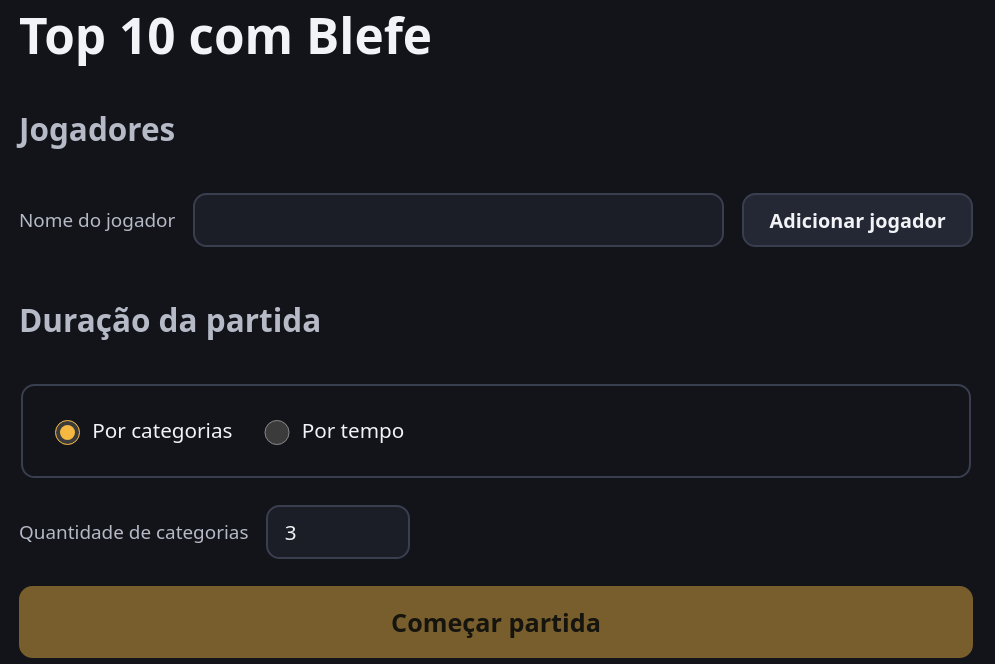
Test case: TelaSetup › remove um jogador da lista
In the field labelled "Nome do jogador": (459, 220) x1=193 y1=193 x2=724 y2=247, type "Ana"
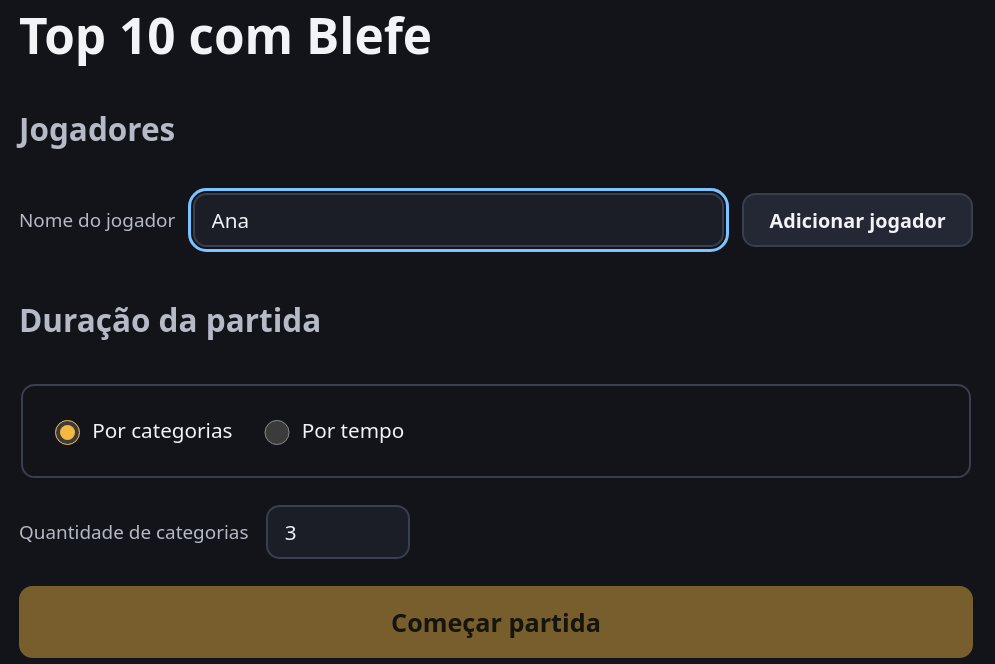
Click the button "Adicionar jogador": (858, 220) x1=742 y1=193 x2=973 y2=247
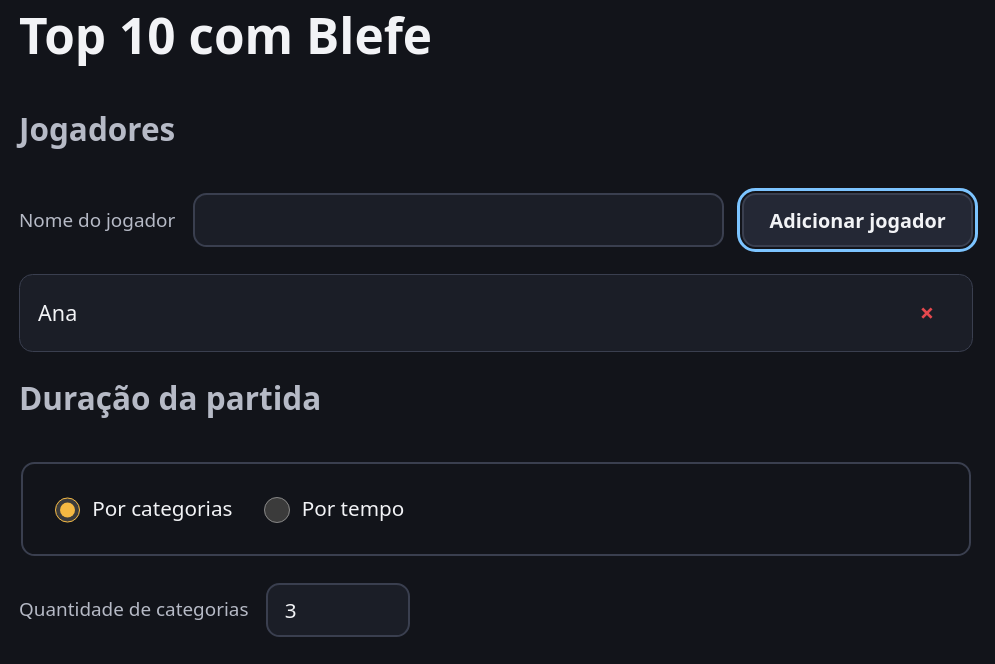
Click the button named "Remover Ana": (927, 313) x1=900 y1=286 x2=954 y2=340
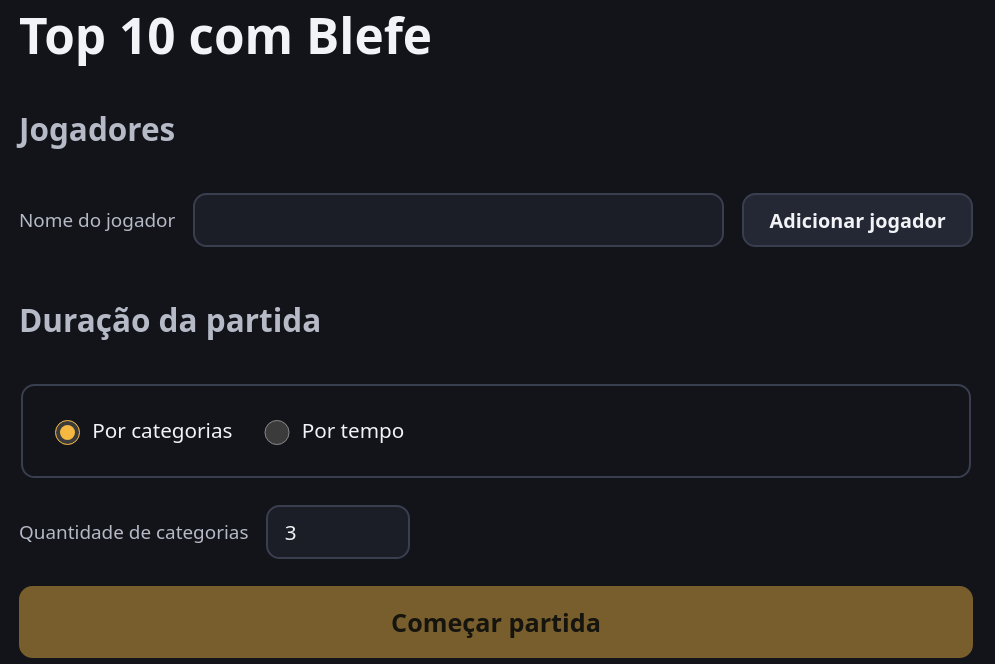
Now the text "Ana" is gone
